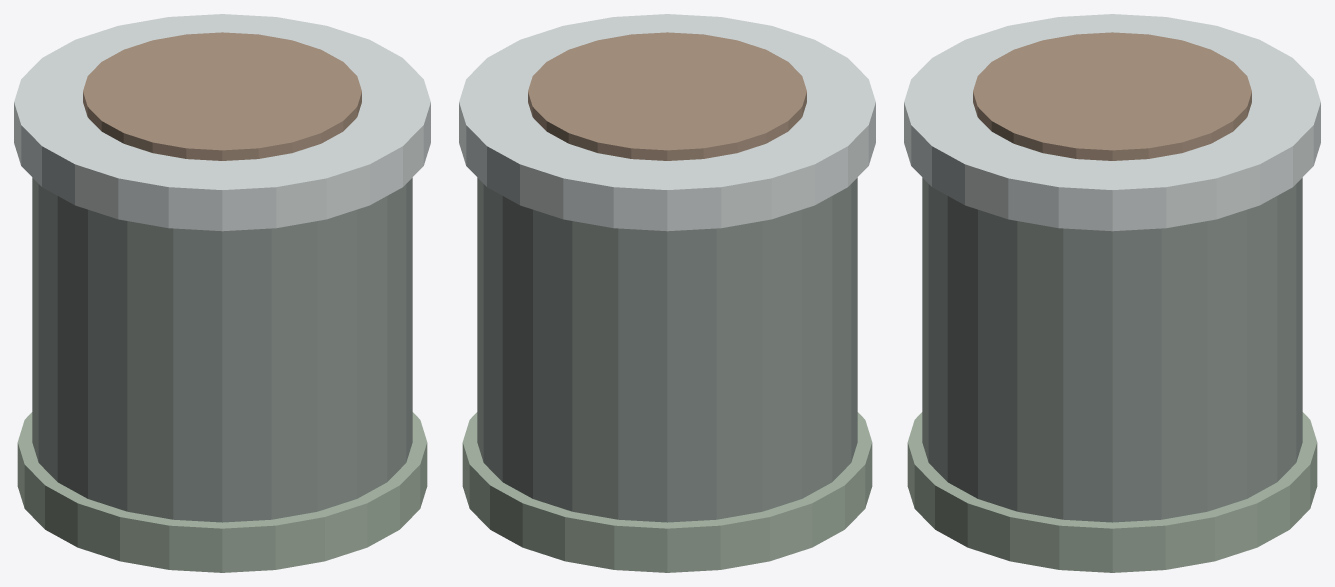
File: s7-e0e1-cn04-empty-plant-pot.glb
The picture shows the model from 3 angles, left to right: view 1: azimuth 30°, elevation 25°; view 2: azimuth 150°, elevation 25°; view 3: azimuth 270°, elevation 25°; orthographic projection.
Parts seen in each view (by area): view 1: empty-cylindrical-pot-000, rolled-pot-lip-001, open-pot-interior-002, pot-drain-pan-003; view 2: empty-cylindrical-pot-000, rolled-pot-lip-001, open-pot-interior-002, pot-drain-pan-003; view 3: empty-cylindrical-pot-000, rolled-pot-lip-001, open-pot-interior-002, pot-drain-pan-003.
Boxes of the visible parts, x1,y1,x2,y2 form: empty-cylindrical-pot-000: (32,177,412,522); rolled-pot-lip-001: (14,14,430,231); open-pot-interior-002: (83,32,361,160); pot-drain-pan-003: (17,412,427,572); empty-cylindrical-pot-000: (477,177,857,522); rolled-pot-lip-001: (459,14,875,231); open-pot-interior-002: (528,32,806,160); pot-drain-pan-003: (462,412,872,572); empty-cylindrical-pot-000: (922,177,1302,522); rolled-pot-lip-001: (904,14,1320,231); open-pot-interior-002: (973,32,1251,160); pot-drain-pan-003: (907,412,1317,572).
Size of the model in its own units: 0.23 by 0.2405 by 0.23.
